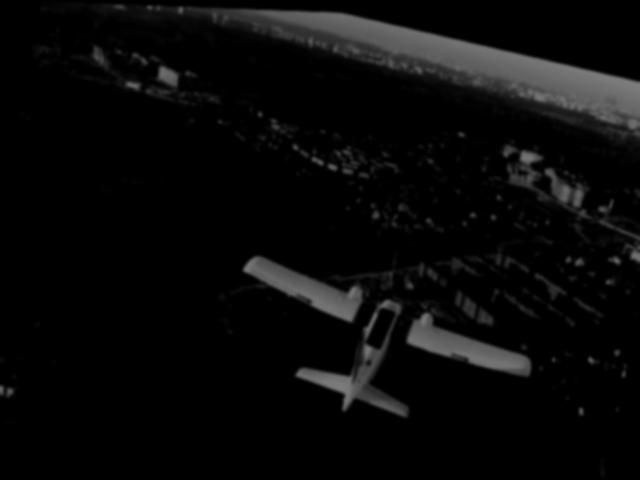hedef: (207, 234, 562, 464)
